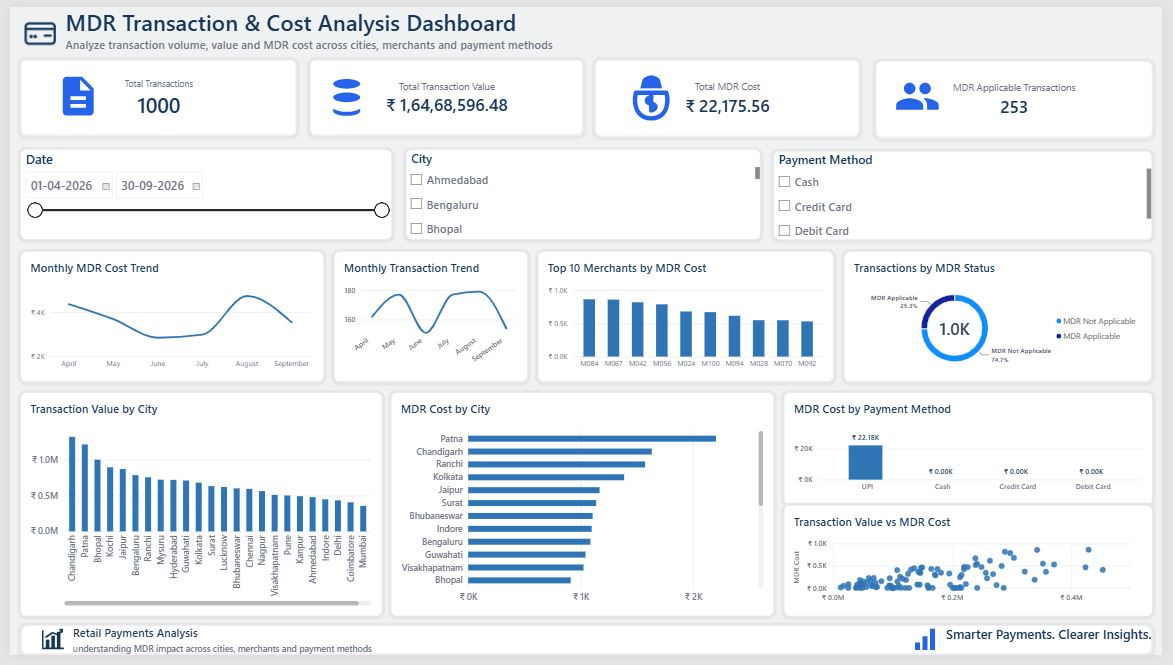

The dashboard page shown, as its layout file describes it:
{"tool":"powerbi","page":{"name":"Page 1","canvas":[1920,1080],"ordinal":0},"visuals":[{"type":"cardVisual","fields":{"Data":["_Measures.Total Transactions"]},"box":[17.5,87.5,460,127.5],"z":0},{"type":"cardVisual","fields":{"Data":["_Measures.Total Transaction Value"]},"box":[500,87.5,455,127.5],"z":1},{"type":"cardVisual","fields":{"Data":["_Measures.Total MDR Cost"]},"box":[975.3,86.7,440.8,128.9],"z":2},{"type":"cardVisual","fields":{"Data":["_Measures.MDR Applicable Transactions"]},"box":[1441.9,89.1,461.9,128.9],"z":3},{"type":"donutChart","title":"Transactions by MDR Status","fields":{"Category":["vw_mdr_transactions.Final MDR Status"],"Y":["_Measures.Total Transactions"]},"box":[1390,407.5,512.5,217.5],"z":4},{"type":"lineChart","title":"Monthly Transaction Trend","fields":{"Category":["dim_date.Date.Variation.Date Hierarchy.Month"],"Y":["_Measures.Total Transactions"]},"box":[540,407.5,322.5,217.5],"z":5},{"type":"lineChart","title":"Monthly MDR Cost Trend","fields":{"Category":["dim_date.Date.Variation.Date Hierarchy.Month"],"Y":["_Measures.Total MDR Cost"]},"box":[17.5,407.5,505,217.5],"z":6},{"type":"clusteredColumnChart","title":"Transaction Value by City","fields":{"Category":["dim_city.City"],"Y":["_Measures.Total Transaction Value"]},"box":[16.4,642.4,602.5,372.8],"z":7},{"type":"clusteredColumnChart","title":"MDR Cost by Payment Method","fields":{"Category":["dim_payment.Payment_Method"],"Y":["_Measures.Total MDR Cost"]},"box":[1289.5,642.4,614.3,187.6],"z":8},{"type":"clusteredColumnChart","title":"Top 10 Merchants by MDR Cost","fields":{"Category":["dim_merchant.Merchant_ID"],"Y":["_Measures.Total MDR Cost"]},"box":[880,407.5,492.5,217.5],"z":9},{"type":"clusteredBarChart","title":"MDR Cost by City","fields":{"Category":["dim_city.City"],"Y":["_Measures.Total MDR Cost"]},"box":[635.4,642.4,637.7,372.8],"z":10},{"type":"scatterChart","title":"Transaction Value vs MDR Cost","fields":{"Category":["dim_merchant.Merchant_ID"],"X":["_Measures.Total Transaction Value"],"Y":["_Measures.Total MDR Cost"]},"box":[1289.5,829.9,614.3,185.2],"z":11},{"type":"slicer","fields":{"Values":["dim_date.Date"]},"box":[16.4,236.8,618.9,150],"z":12},{"type":"slicer","fields":{"Values":["dim_payment.Payment_Method"]},"box":[1273.1,239.1,630.7,147.7],"z":13},{"type":"slicer","fields":{"Values":["dim_city.City"]},"box":[660,237.5,590.8,150],"z":14},{"type":"textbox","box":[91.4,0,815.9,107.8],"z":15},{"type":"actionButton","box":[0,0,100.8,89.1],"z":16},{"type":"shape","box":[16.7,1030,1886.7,50],"z":17},{"type":"textbox","box":[100,1030,620,50],"z":18},{"type":"textbox","box":[1560,1030,342.5,50],"z":19},{"type":"image","box":[17.5,1030,107.5,47.5],"z":20},{"type":"image","box":[75,110,77.5,77.5],"z":21},{"type":"image","box":[522.5,120,77.5,77.5],"z":22},{"type":"image","box":[1025,102.5,87.5,95],"z":23},{"type":"image","box":[1465,110,95,77.5],"z":24},{"type":"image","box":[1500,1030,50,50],"z":25}]}

Visuals, with their boxes in screenshot pixels (x1, y1, x2, y2), scaled from the page's 1920x1080 canvas onto the 1173x665 screenshot:
cardVisual - _Measures.Total Transactions: x1=11 y1=54 x2=292 y2=132
cardVisual - _Measures.Total Transaction Value: x1=305 y1=54 x2=583 y2=132
cardVisual - _Measures.Total MDR Cost: x1=596 y1=53 x2=865 y2=133
cardVisual - _Measures.MDR Applicable Transactions: x1=881 y1=55 x2=1163 y2=134
"Transactions by MDR Status" donutChart: x1=849 y1=251 x2=1162 y2=385
"Monthly Transaction Trend" lineChart: x1=330 y1=251 x2=527 y2=385
"Monthly MDR Cost Trend" lineChart: x1=11 y1=251 x2=319 y2=385
"Transaction Value by City" clusteredColumnChart: x1=10 y1=396 x2=378 y2=625
"MDR Cost by Payment Method" clusteredColumnChart: x1=788 y1=396 x2=1163 y2=511
"Top 10 Merchants by MDR Cost" clusteredColumnChart: x1=538 y1=251 x2=839 y2=385
"MDR Cost by City" clusteredBarChart: x1=388 y1=396 x2=778 y2=625
"Transaction Value vs MDR Cost" scatterChart: x1=788 y1=511 x2=1163 y2=625
slicer - dim_date.Date: x1=10 y1=146 x2=388 y2=238
slicer - dim_payment.Payment_Method: x1=778 y1=147 x2=1163 y2=238
slicer - dim_city.City: x1=403 y1=146 x2=764 y2=239
textbox: x1=56 y1=0 x2=554 y2=66
actionButton: x1=0 y1=0 x2=62 y2=55
shape: x1=10 y1=634 x2=1163 y2=664
textbox: x1=61 y1=634 x2=440 y2=664
textbox: x1=953 y1=634 x2=1162 y2=664
image: x1=11 y1=634 x2=76 y2=663
image: x1=46 y1=68 x2=93 y2=115
image: x1=319 y1=74 x2=367 y2=122
image: x1=626 y1=63 x2=680 y2=122
image: x1=895 y1=68 x2=953 y2=115
image: x1=916 y1=634 x2=947 y2=664
